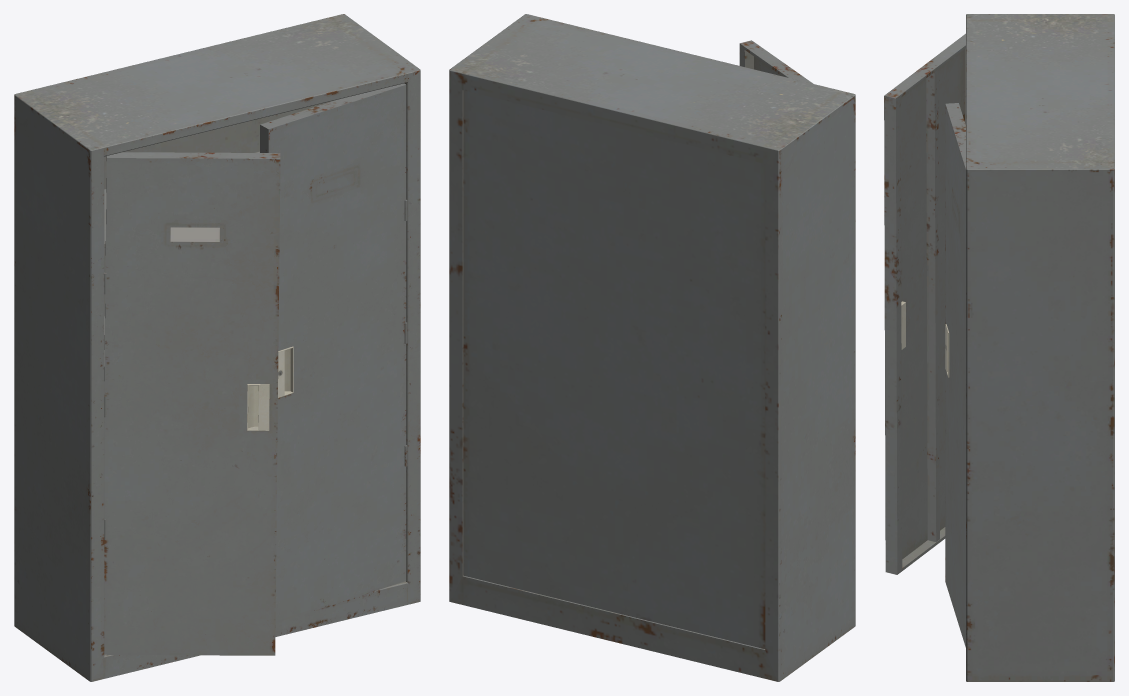
The model's file is 032_OfficeLockerOpen.fbx.
3 views of the same model, side by side, from view 1: azimuth 30°, elevation 25°; view 2: azimuth 150°, elevation 25°; view 3: azimuth 270°, elevation 25° (orthographic). The views are drawn at different scales.
Parts seen in each view (by area): view 1: LOD_1_Group_0_Sub_1__sm30_032_OfficeLocker02A_A_Mat; view 2: LOD_1_Group_0_Sub_1__sm30_032_OfficeLocker02A_A_Mat; view 3: LOD_1_Group_0_Sub_1__sm30_032_OfficeLocker02A_A_Mat.
Boxes of the visible parts, x1=… form: LOD_1_Group_0_Sub_1__sm30_032_OfficeLocker02A_A_Mat: x1=14, y1=14, x2=420, y2=681; LOD_1_Group_0_Sub_1__sm30_032_OfficeLocker02A_A_Mat: x1=449, y1=14, x2=855, y2=681; LOD_1_Group_0_Sub_1__sm30_032_OfficeLocker02A_A_Mat: x1=884, y1=14, x2=1114, y2=681.
Size of the model in its own units: 1.33 by 2.05 by 0.8361.
